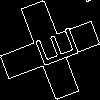E: (25, 25, 80, 73)
